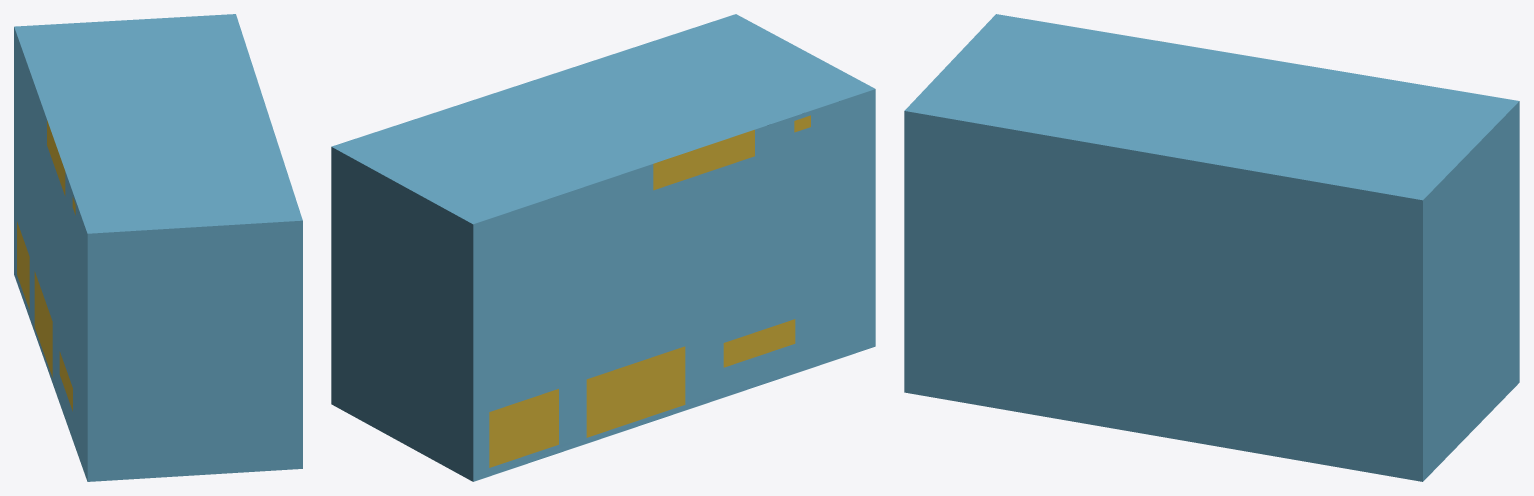
Rendered from bldg_a634ad89-3a77-4eab-88a3-dde71fbebd68.obj.
3 renders of one model, left to right at view 1: azimuth 30°, elevation 25°; view 2: azimuth 150°, elevation 25°; view 3: azimuth 270°, elevation 25°, orthographic. The views are drawn at different scales.
Size of the model in its own units: 18.75 by 13.22 by 26.16.
